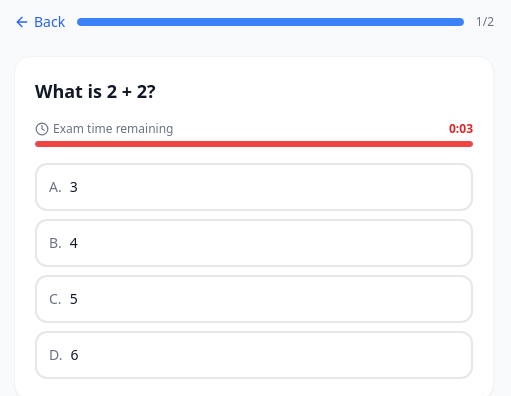
Test: QuizGame › overall timer expiry auto-completes with unanswered questions incorrect
Click the button "B.4" at (53, 242), box 35,219 -> 473,267
Wait 3500 ms
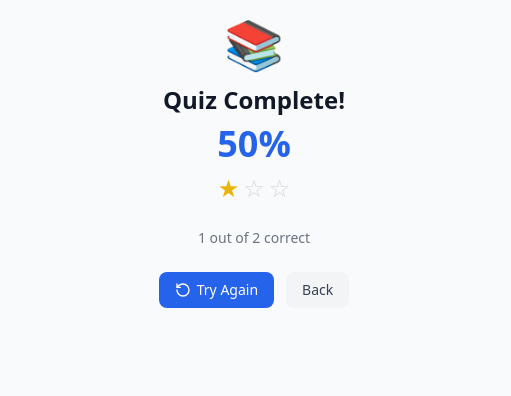
Expected: the heading "Quiz Complete!" is shown, 163,83 -> 345,116
